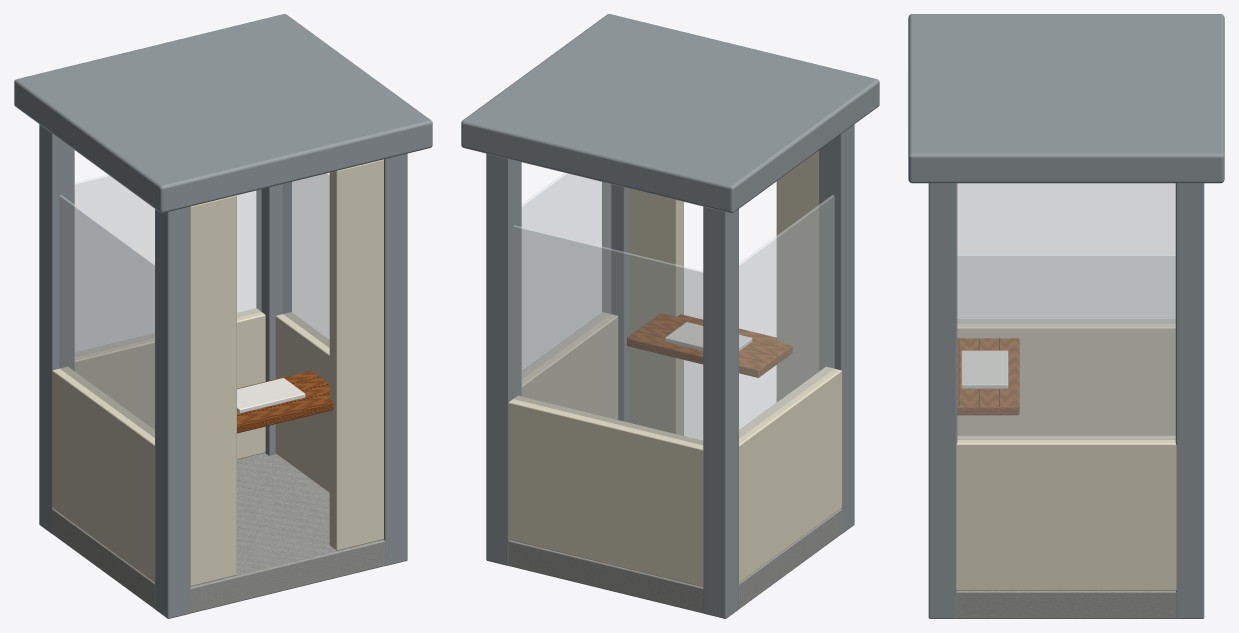
File: prison-complex-builder-guard-booth-9dfd0625__25658.glb
The picture shows the model from 3 angles, left to right: view 1: azimuth 30°, elevation 25°; view 2: azimuth 150°, elevation 25°; view 3: azimuth 270°, elevation 25°; orthographic projection. The views are drawn at different scales.
Visible parts, largest first — view 1: guard-booth; view 2: guard-booth; view 3: guard-booth.
Boxes of the visible parts, bbox=[...] form: guard-booth: bbox=[14, 14, 432, 618]; guard-booth: bbox=[461, 14, 879, 618]; guard-booth: bbox=[908, 14, 1224, 618].
Size of the model in its own units: 1.65 by 2.56 by 1.55.
6 materials, 2 textured.
